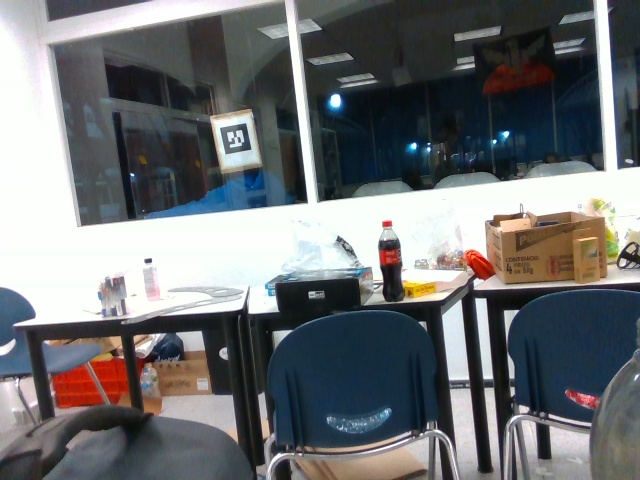ar4: (219, 120, 253, 158)
